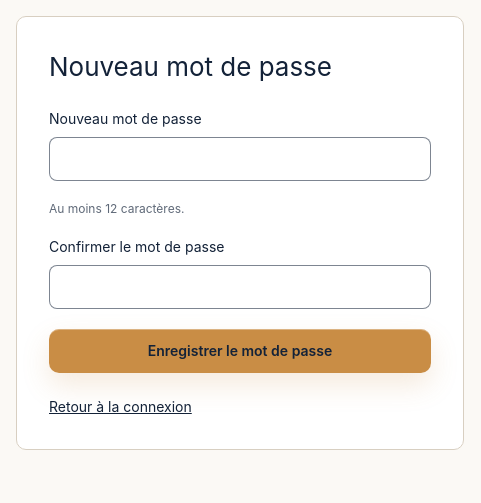
Test: password recovery › validates confirmation and preserves success if sign-out fails after the update
Type "test-password" into the password field labelled "Nouveau mot de passe" at (240, 159), box [49,137,431,181]
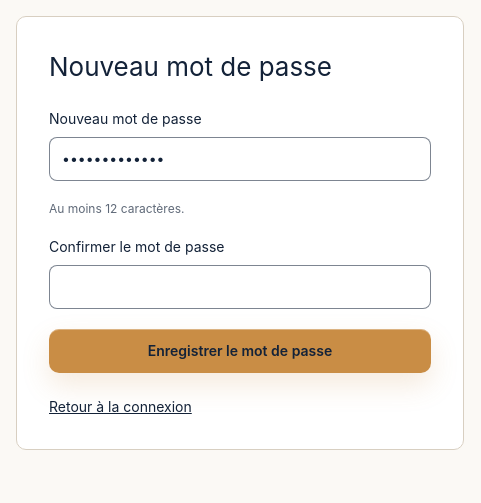
Type "different-password" into the password field labelled "Confirmer le mot de passe" at (240, 287), box [49,265,431,309]
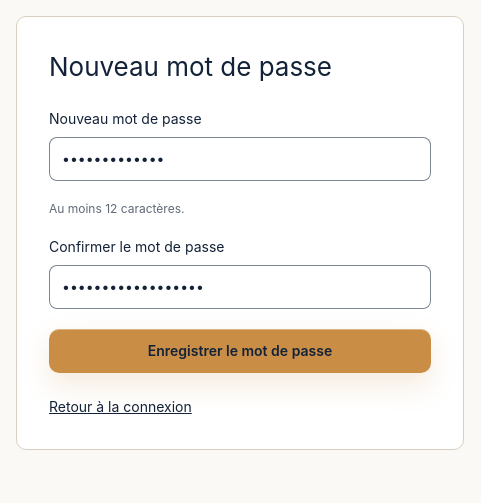
Click the button "Enregistrer le mot de passe" at (240, 351), box [49,329,431,373]
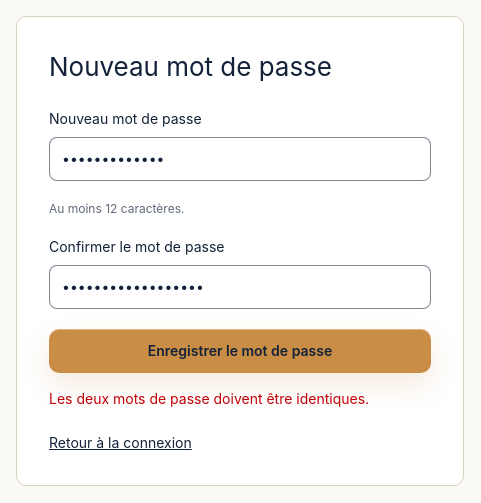
Check: the message shows "identiques", box [49,390,369,407]
Type "test-password" into the password field labelled "Confirmer le mot de passe" at (240, 287), box [49,265,431,309]
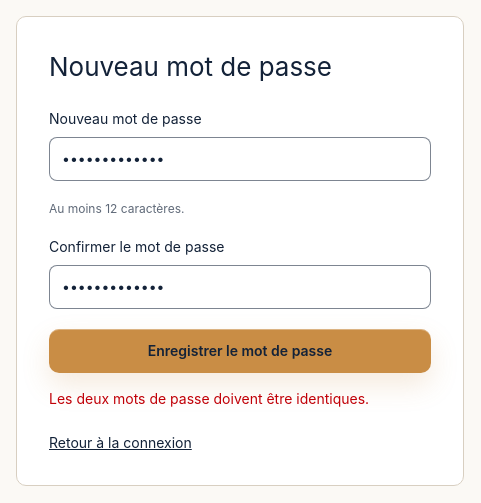
Click the button "Enregistrer le mot de passe" at (240, 351), box [49,329,431,373]
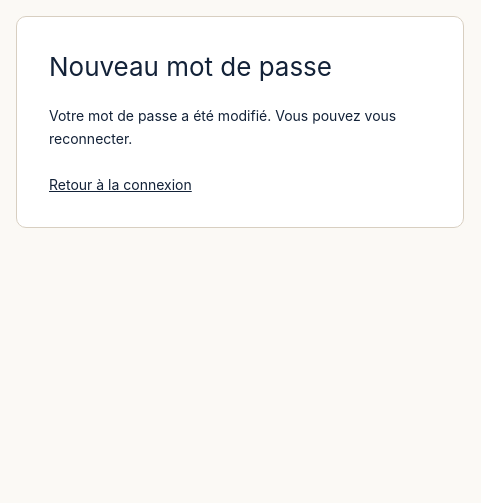
Check: the message shows "a été modifié", box [49,107,396,147]
